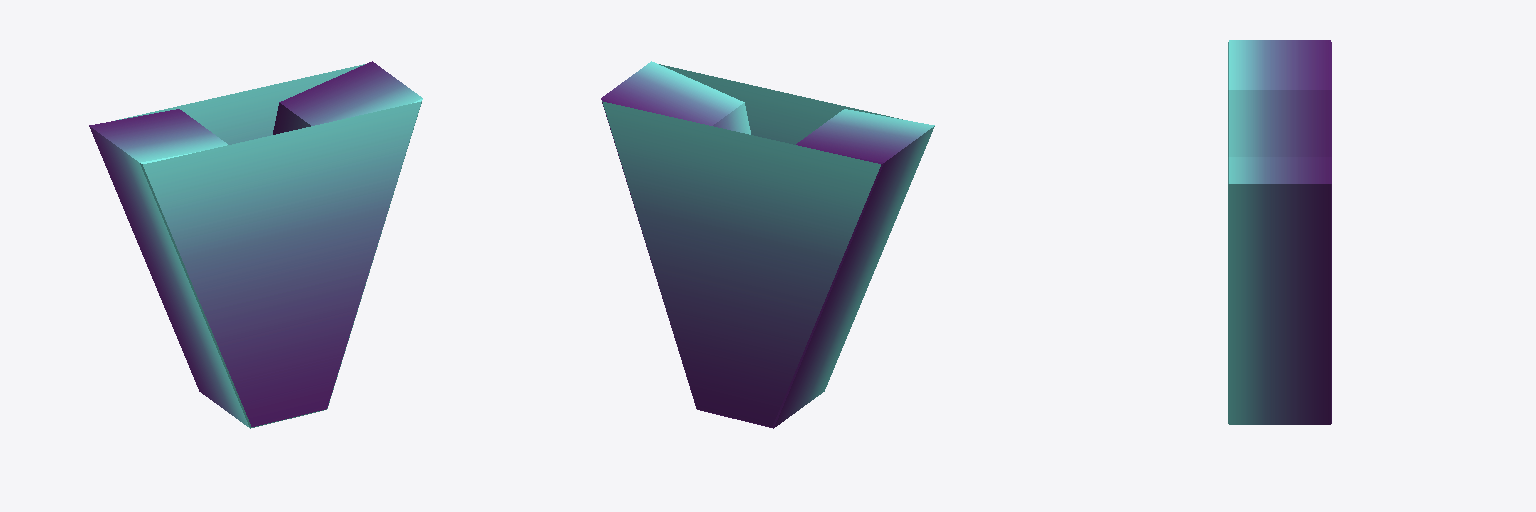
3 views of the same model, side by side, from view 1: azimuth 30°, elevation 25°; view 2: azimuth 150°, elevation 25°; view 3: azimuth 270°, elevation 25° (orthographic).
Visible parts, largest first — view 1: polySurface24; view 2: polySurface24; view 3: polySurface24.
Boxes of the visible parts, x1=… form: polySurface24: x1=89, y1=61, x2=422, y2=428; polySurface24: x1=601, y1=61, x2=934, y2=428; polySurface24: x1=1228, y1=40, x2=1331, y2=424.
Bounding box in the file's own units: 2.06 × 2.03 × 0.6578.
Materials: 1 (1 with a texture image).